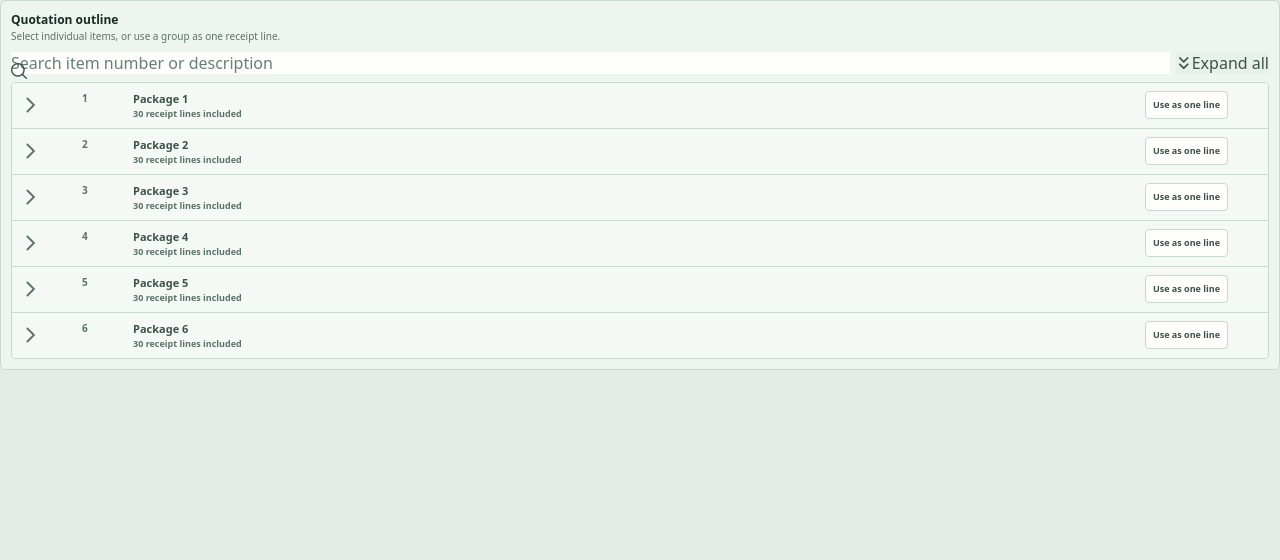
Test: GoodsReceiptNavigator › handles a 216-item hierarchy with expand-all, deep search, and selection
This screenshot has width=1280, height=560.
Check: the number of list items with class "goods-receipt-outline-row" is 6, box top-left (12, 82), bottom-right (1268, 128); top-left (12, 128), bottom-right (1268, 174); top-left (12, 174), bottom-right (1268, 220); top-left (12, 220), bottom-right (1268, 266); top-left (12, 266), bottom-right (1268, 312); top-left (12, 312), bottom-right (1268, 358)
Click the button "Expand all" at (1222, 62), box top-left (1176, 52), bottom-right (1269, 74)
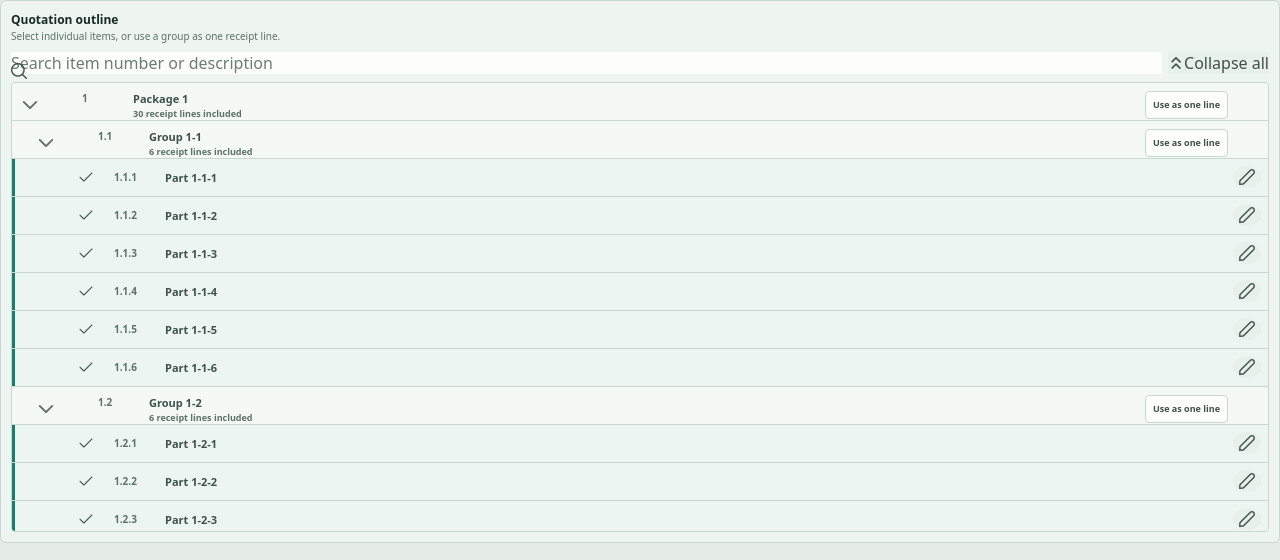
Type "Part 6-5-6" into the field with placeholder "Search item number or description" at (586, 62), box top-left (11, 52), bottom-right (1162, 74)
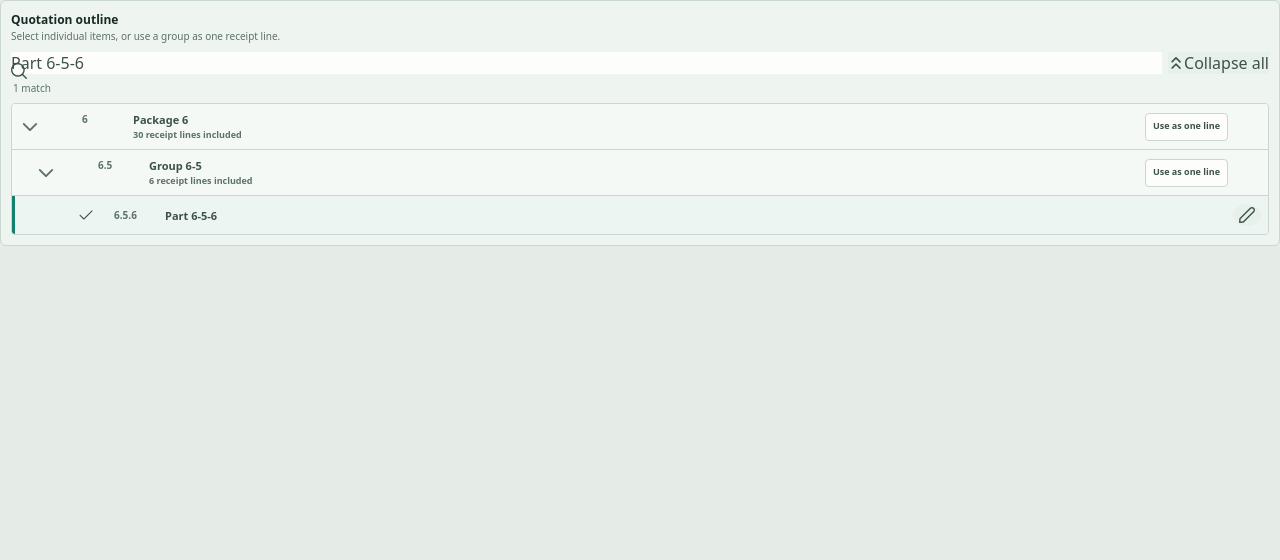
Check: the number of list items with class "goods-receipt-outline-row" is 3, box top-left (12, 104), bottom-right (1268, 150); top-left (12, 150), bottom-right (1268, 196); top-left (12, 196), bottom-right (1268, 234)
